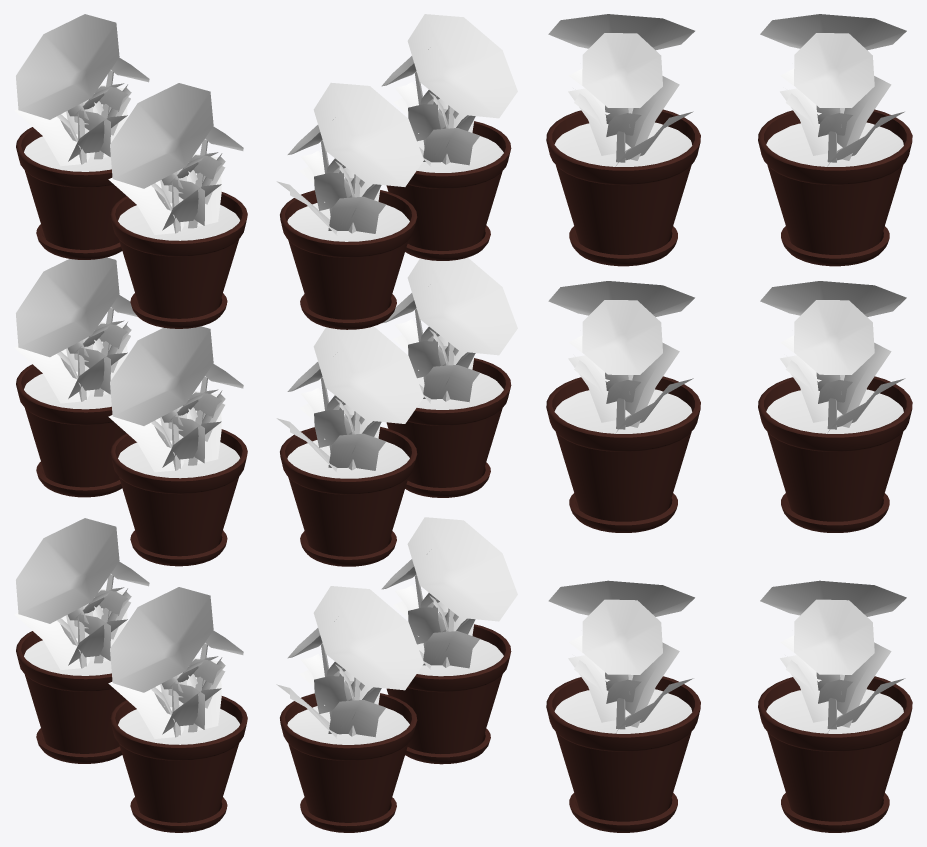
File: Room3-Flower1.glb
The picture shows the model from 3 angles, left to right: view 1: azimuth 30°, elevation 25°; view 2: azimuth 150°, elevation 25°; view 3: azimuth 270°, elevation 25°; orthographic projection. The views are drawn at different scales.
Parts seen in each view (by area): view 1: Object_6.017, Object_6.004, Object_6.012, Object_6.016, Object_6.013, Object_6.008; view 2: Object_6.016, Object_6.013, Object_6.008, Object_6.004, Object_6.017, Object_6.012; view 3: Object_6.004, Object_6.017, Object_6.013, Object_6.016, Object_6.012, Object_6.008.
Boxes of the visible parts, x1,y1,x2,y2 form: Object_6.017: (108, 587, 247, 832); Object_6.004: (108, 83, 247, 328); Object_6.012: (108, 326, 247, 566); Object_6.016: (14, 518, 149, 763); Object_6.013: (14, 14, 149, 259); Object_6.008: (14, 257, 137, 497); Object_6.016: (276, 586, 423, 832); Object_6.013: (276, 82, 423, 329); Object_6.008: (276, 326, 423, 566); Object_6.004: (381, 14, 517, 260); Object_6.017: (381, 517, 517, 764); Object_6.012: (382, 257, 517, 497); Object_6.004: (546, 14, 700, 266); Object_6.017: (546, 580, 700, 832); Object_6.013: (758, 14, 912, 266); Object_6.016: (758, 580, 912, 832); Object_6.012: (546, 281, 700, 532); Object_6.008: (758, 281, 912, 532).
Size of the model in its own units: 2.17 by 12.37 by 5.05.
Materials: 5 (1 with a texture image).
